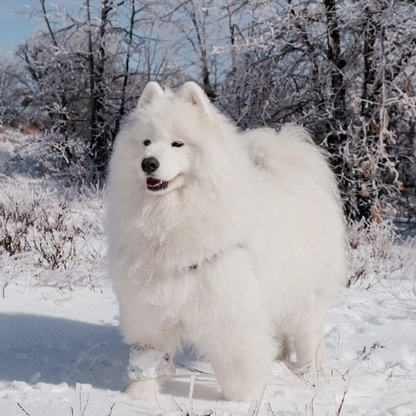samoyed: (99, 76, 358, 405)
